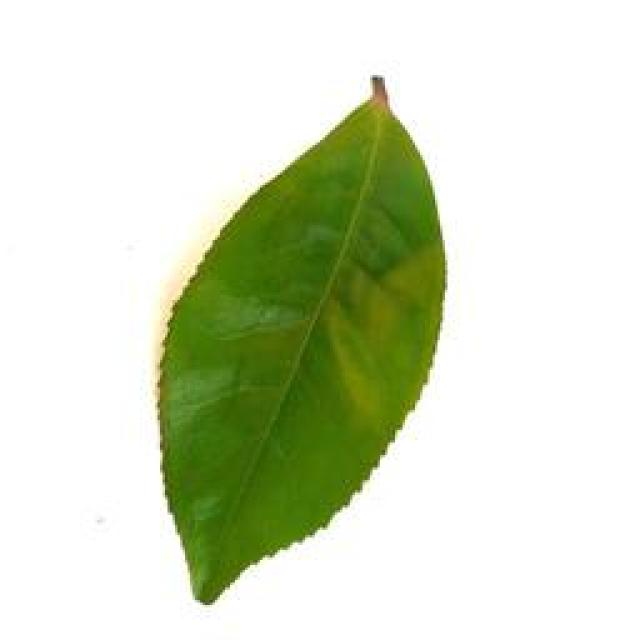Healthy: (155, 76, 452, 601)
